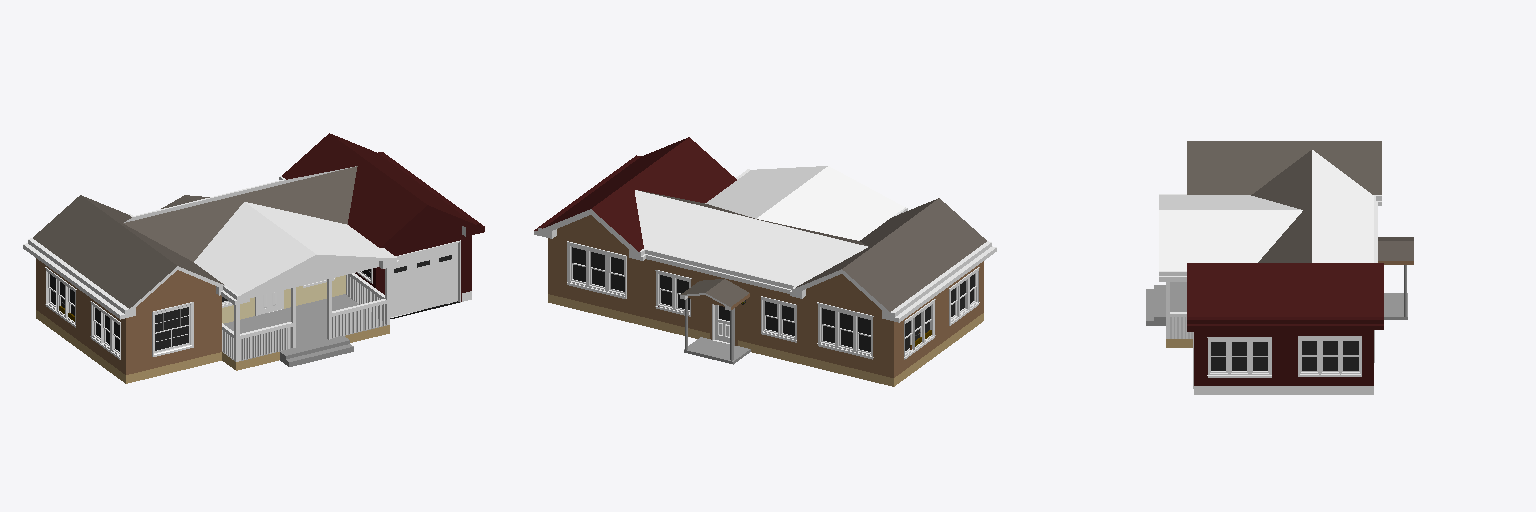
Rendered from simple_house.obj.
The picture shows the model from 3 angles: view 1: azimuth 30°, elevation 25°; view 2: azimuth 150°, elevation 25°; view 3: azimuth 270°, elevation 25°; orthographic projection.
Visible parts, largest first — view 1: Mesh209 Model, Mesh10 Door_Garage_Single1 Model, Mesh207 Window_Doublehung_Triple__102x64_5 Model, Mesh208 Window_Doublehung_Triple__102x64_6 Model, Mesh5 Component_1_1 Window_Doublehung_Mullions_43x46_1 Model, Mesh6 Component_1_2 Window_Doublehung_Mullions_43x46_1 Model, Mesh4 Door_Glass_Panels1 Model; view 2: Mesh209 Model, Mesh33 Window_Doublehung_Triple__102x64_1 Model, Mesh34 Window_Doublehung_Triple__102x64_2 Model, Mesh32 Window_Doublehung_Double_67x64_4 Model, Mesh31 Window_Doublehung_Double_67x64_3 Model, Mesh207 Window_Doublehung_Triple__102x64_5 Model, Mesh208 Window_Doublehung_Triple__102x64_6 Model, Mesh35 Door_Glass_Header_Panels_3_0x6_8_1 Model; view 3: Mesh209 Model, Mesh49 Window_Doublehung_Triple__102x64_3 Model, Mesh50 Window_Doublehung_Triple__102x64_4 Model.
Boxes of the visible parts, <box> form: Mesh209 Model: <box>23,133,484,383</box>; Mesh10 Door_Garage_Single1 Model: <box>390,240,460,317</box>; Mesh207 Window_Doublehung_Triple__102x64_5 Model: <box>90,301,120,359</box>; Mesh208 Window_Doublehung_Triple__102x64_6 Model: <box>45,267,76,327</box>; Mesh5 Component_1_1 Window_Doublehung_Mullions_43x46_1 Model: <box>154,305,189,333</box>; Mesh6 Component_1_2 Window_Doublehung_Mullions_43x46_1 Model: <box>154,326,189,352</box>; Mesh4 Door_Glass_Panels1 Model: <box>255,290,283,315</box>; Mesh209 Model: <box>534,137,996,386</box>; Mesh33 Window_Doublehung_Triple__102x64_1 Model: <box>567,241,626,298</box>; Mesh34 Window_Doublehung_Triple__102x64_2 Model: <box>817,302,873,359</box>; Mesh32 Window_Doublehung_Double_67x64_4 Model: <box>761,296,796,342</box>; Mesh31 Window_Doublehung_Double_67x64_3 Model: <box>655,270,691,316</box>; Mesh207 Window_Doublehung_Triple__102x64_5 Model: <box>949,267,979,325</box>; Mesh208 Window_Doublehung_Triple__102x64_6 Model: <box>904,299,935,359</box>; Mesh35 Door_Glass_Header_Panels_3_0x6_8_1 Model: <box>712,304,734,345</box>; Mesh209 Model: <box>1146,141,1413,394</box>; Mesh49 Window_Doublehung_Triple__102x64_3 Model: <box>1207,337,1271,377</box>; Mesh50 Window_Doublehung_Triple__102x64_4 Model: <box>1298,336,1361,376</box>.
Bounding box in the file's own units: 1065 × 304 × 676.